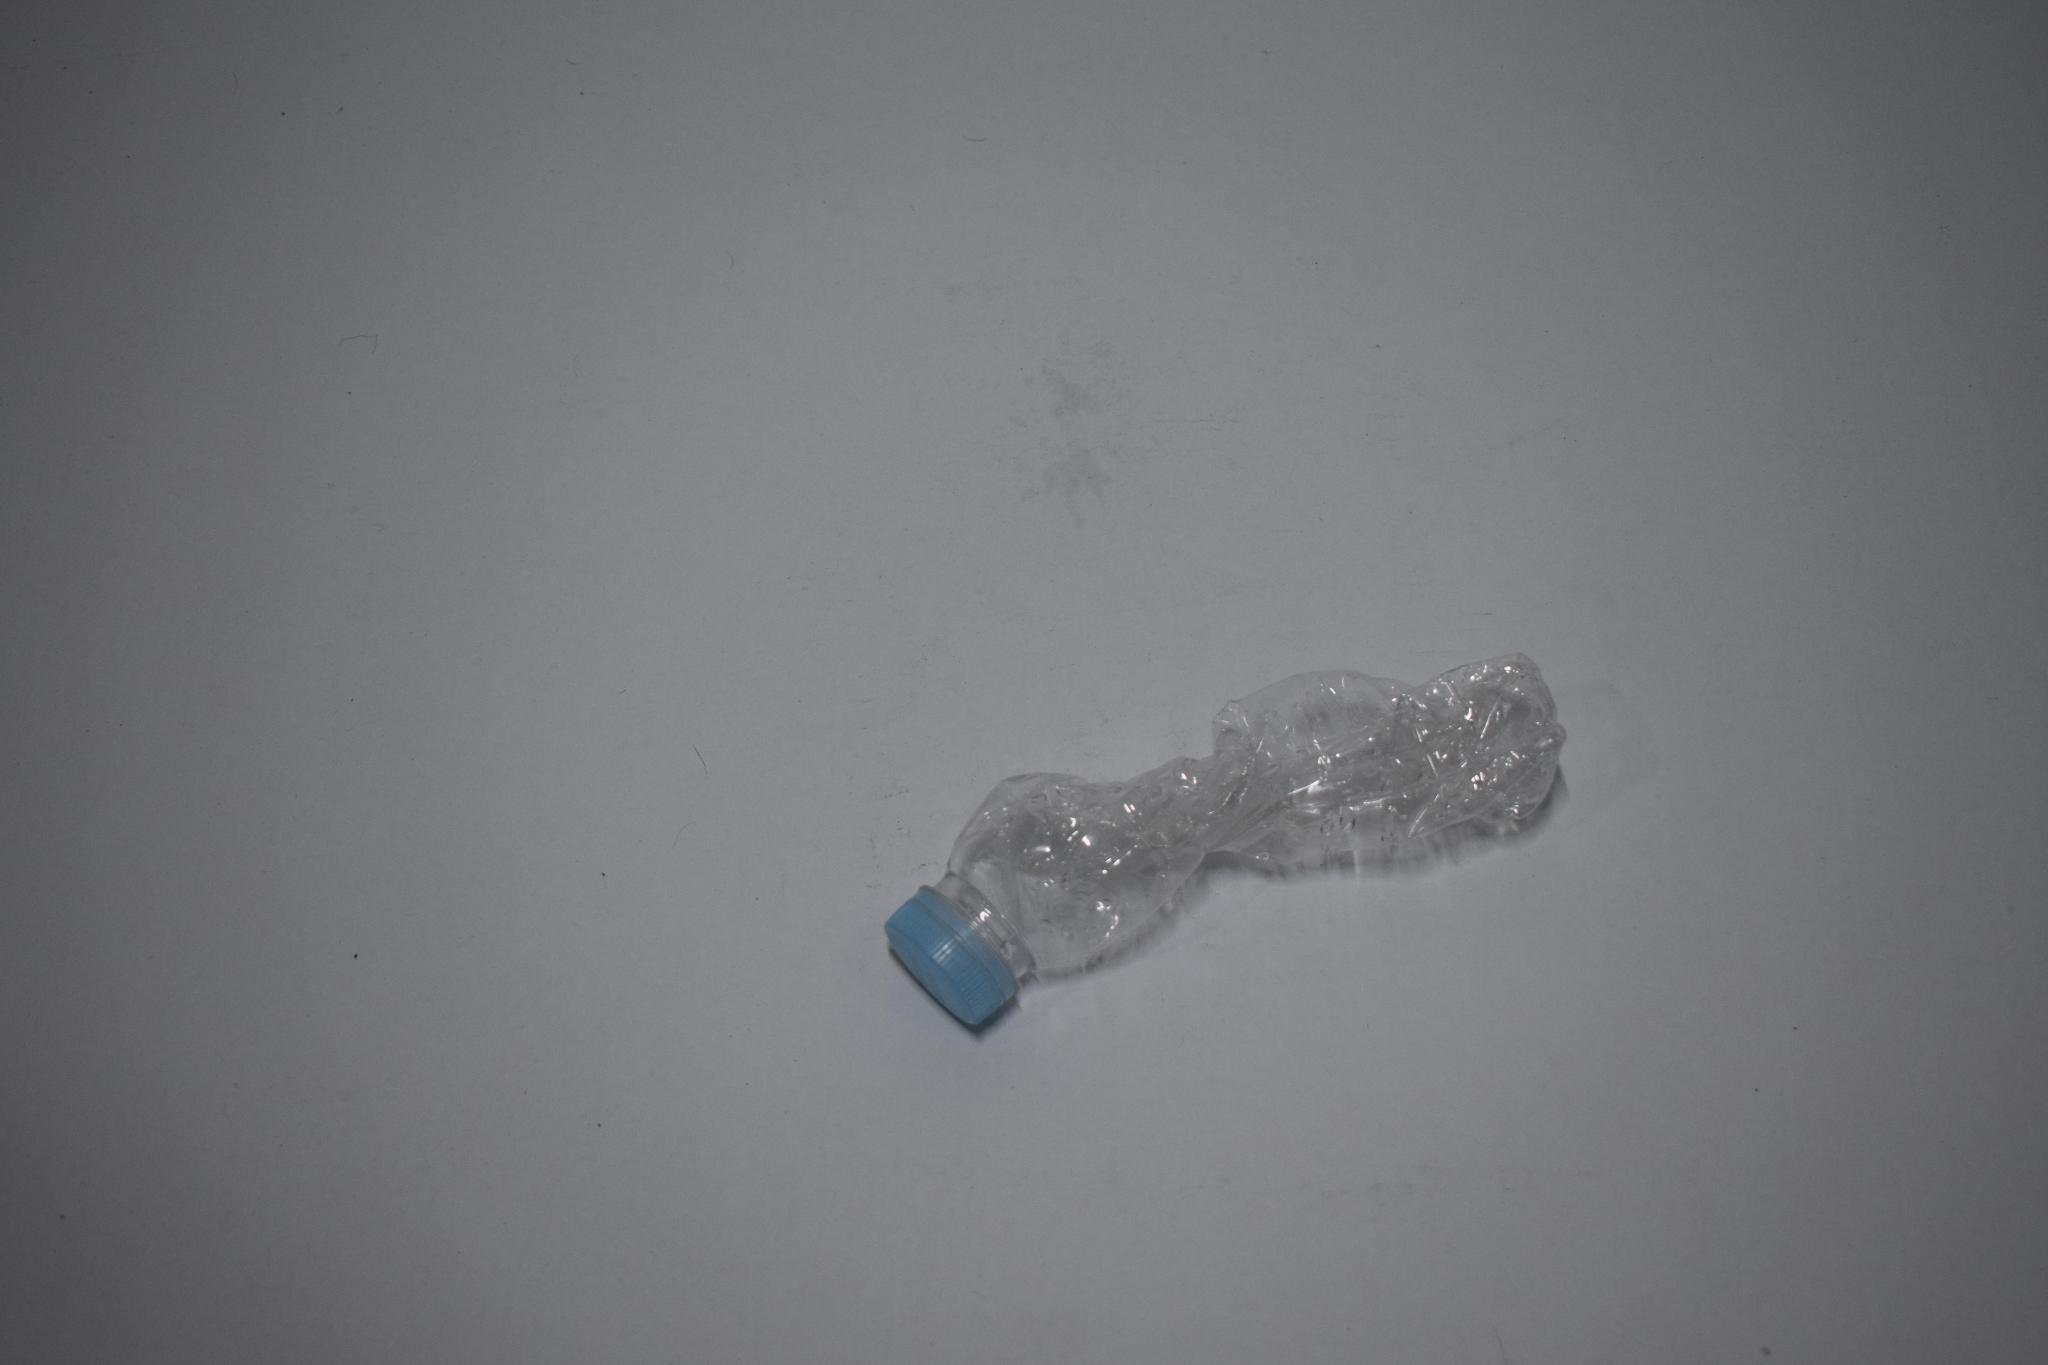bottle: (856, 619, 1593, 1079)
